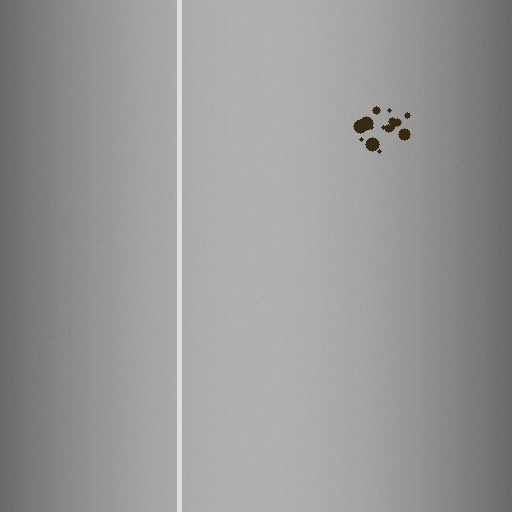contamination: (349, 102, 414, 157)
